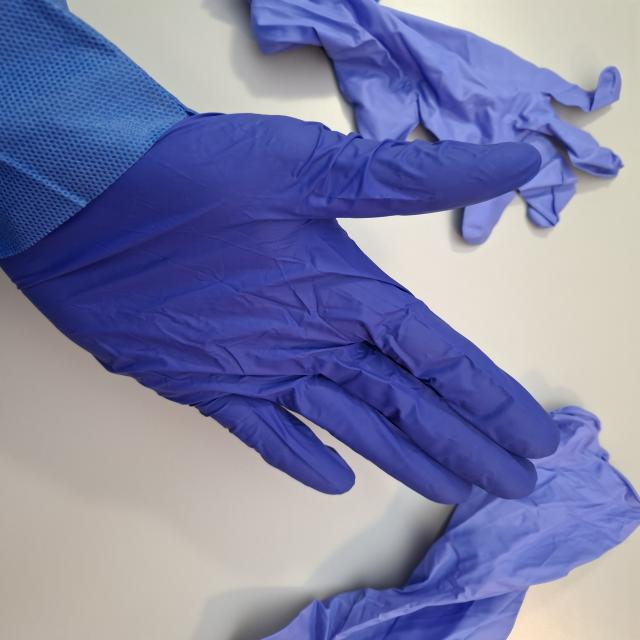glove_on: (2, 109, 565, 508)
